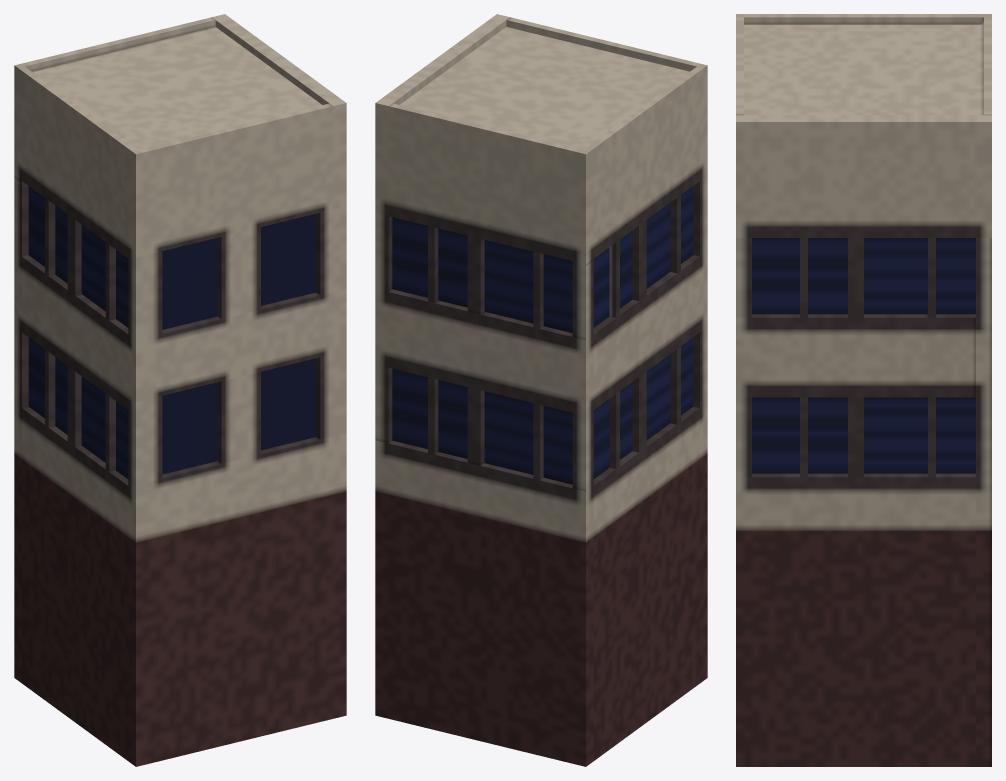
The picture shows the model from 3 angles, left to right: view 1: azimuth 30°, elevation 25°; view 2: azimuth 150°, elevation 25°; view 3: azimuth 270°, elevation 25°; orthographic projection. The views are drawn at different scales.
Visible parts, largest first — view 1: Content; view 2: Content; view 3: Content.
Boxes of the visible parts, x1=… form: Content: x1=14, y1=14, x2=346, y2=766; Content: x1=375, y1=14, x2=707, y2=766; Content: x1=736, y1=14, x2=991, y2=766.
Size of the model in its own units: 32 by 89 by 32.
Materials: 1 (1 with a texture image).
